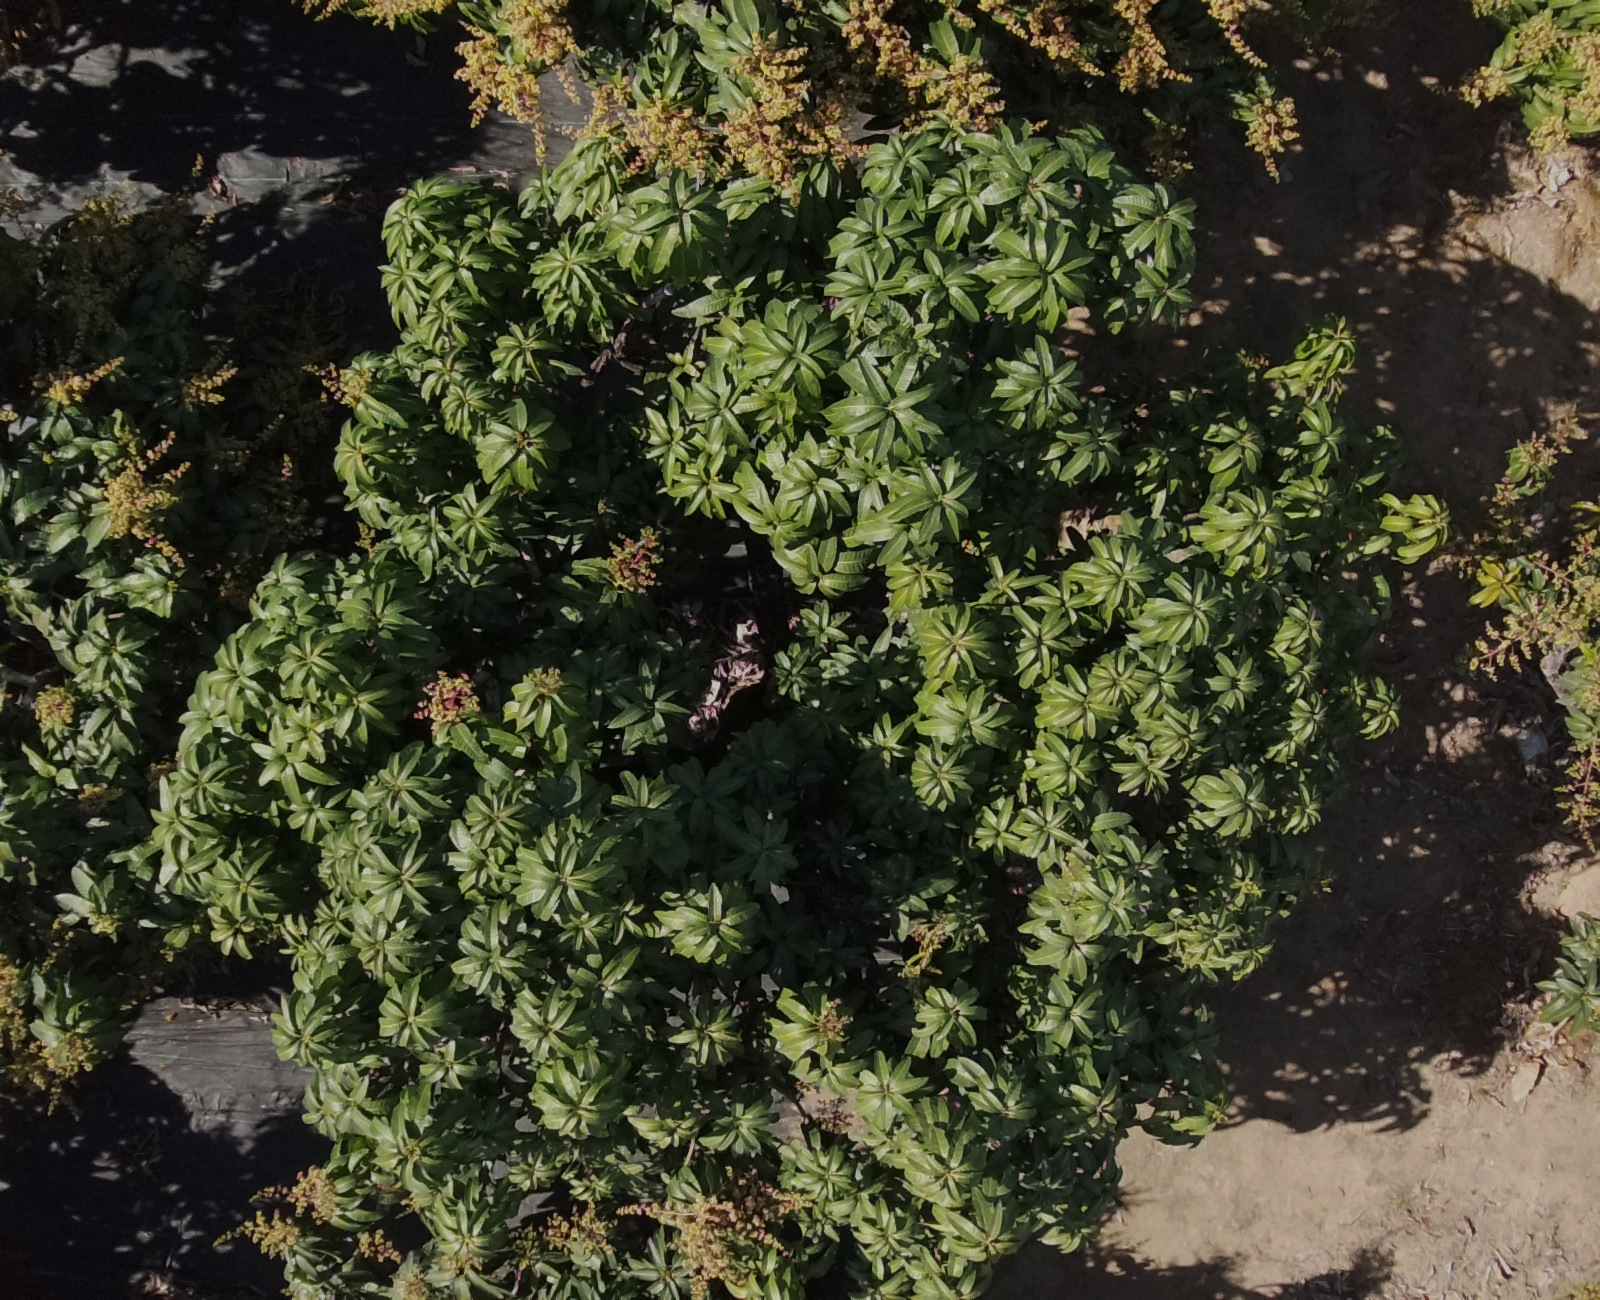flowers: (584, 34, 862, 202), (29, 200, 210, 381), (620, 1159, 803, 1297), (842, 0, 1003, 127), (455, 0, 578, 162), (976, 0, 1189, 93), (1469, 531, 1597, 671), (1475, 405, 1585, 553), (0, 952, 97, 1112), (101, 432, 188, 565), (1522, 31, 1597, 150), (252, 1165, 336, 1223), (1240, 98, 1298, 180), (1556, 738, 1597, 848), (1202, 0, 1267, 68), (42, 356, 123, 405), (544, 1203, 613, 1260), (413, 671, 480, 726), (605, 528, 659, 592), (235, 1212, 300, 1258), (1144, 119, 1191, 180), (302, 363, 370, 406), (364, 0, 452, 28), (182, 361, 236, 405), (1453, 66, 1510, 106), (1566, 647, 1597, 711), (34, 686, 76, 731), (433, 1238, 484, 1273), (356, 1228, 401, 1263), (0, 558, 34, 600), (390, 1263, 430, 1297), (292, 0, 348, 17), (1471, 0, 1510, 16), (1567, 1281, 1597, 1297), (780, 0, 803, 12)
